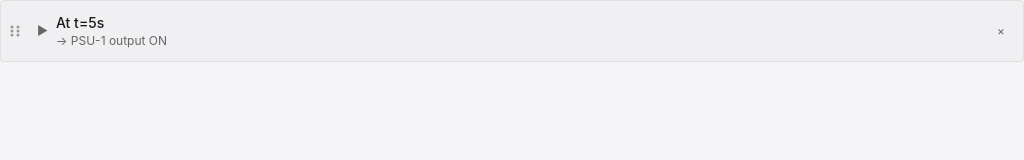
TriggerEditor › Delete Functionality › should show confirmation when delete is clicked
Click the button titled "Delete trigger".
click(1001, 31)  # box left=991, top=21, right=1011, bottom=41
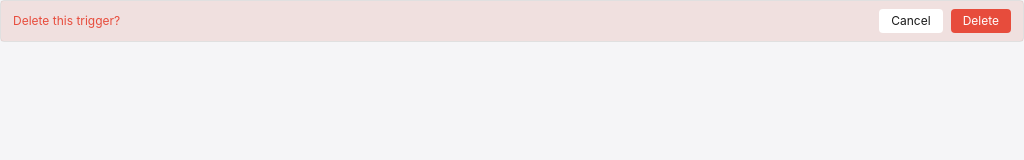
Check: the text "Delete this trigger?" is shown, box left=13, top=13, right=120, bottom=29
Check: the button "Cancel" is shown, box left=879, top=9, right=943, bottom=33
Check: the button "Delete" is shown, box left=951, top=9, right=1011, bottom=33
